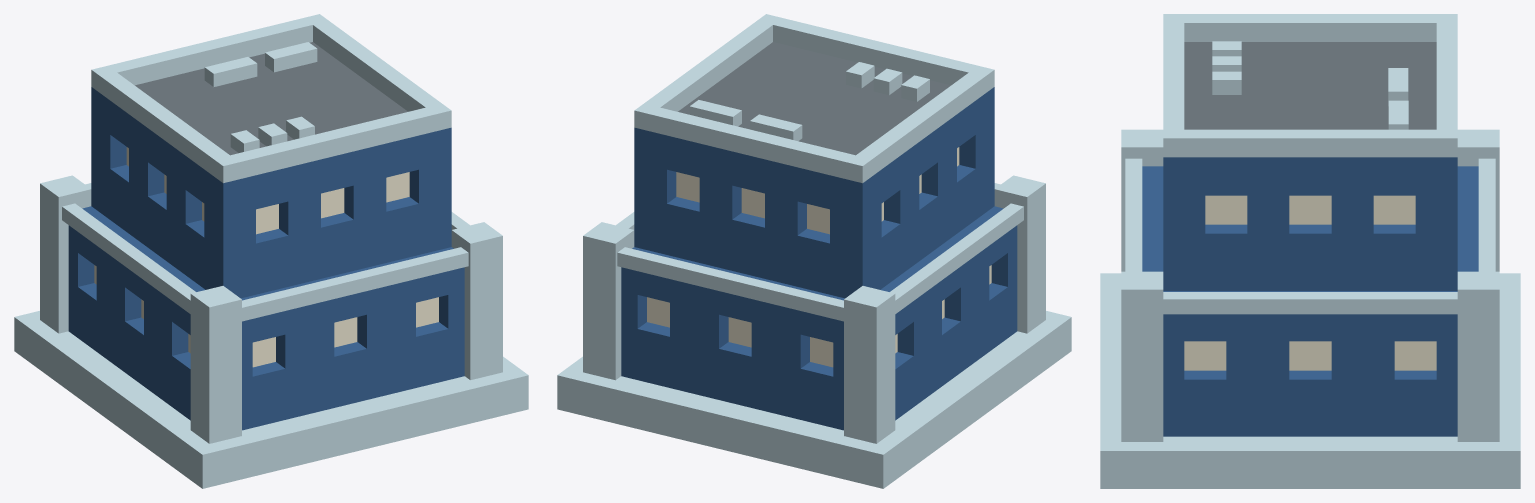
The model's file is Building_6_Base_Extra (Blue).obj.
3 views of the same model, side by side, from view 1: azimuth 30°, elevation 25°; view 2: azimuth 150°, elevation 25°; view 3: azimuth 270°, elevation 25° (orthographic). The views are drawn at different scales.
Visible parts, largest first — view 1: Building_6_Base_Extra_(Blue); view 2: Building_6_Base_Extra_(Blue); view 3: Building_6_Base_Extra_(Blue).
Boxes of the visible parts, bbox=[...] form: Building_6_Base_Extra_(Blue): bbox=[14, 14, 528, 488]; Building_6_Base_Extra_(Blue): bbox=[557, 14, 1071, 488]; Building_6_Base_Extra_(Blue): bbox=[1100, 14, 1520, 488].
Bounding box in the file's own units: 2 × 1.7 × 2.
